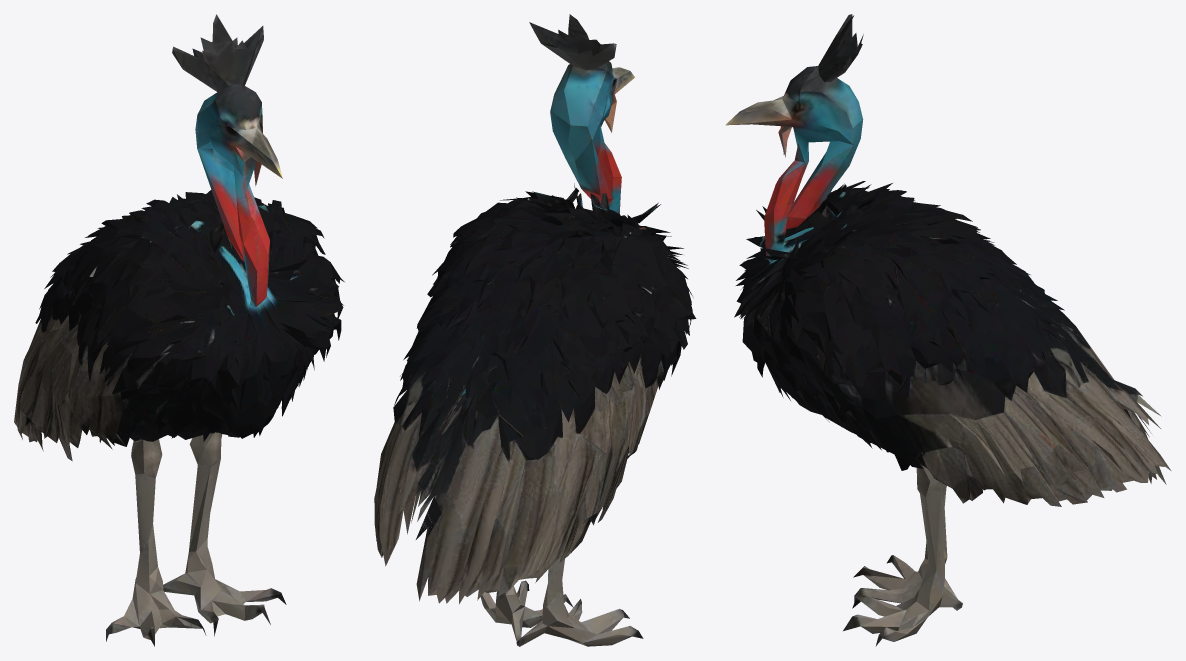
Rendered from fauna_cassowary.glb.
3 views of the same model, side by side, from view 1: azimuth 30°, elevation 25°; view 2: azimuth 150°, elevation 25°; view 3: azimuth 270°, elevation 25° (orthographic). The views are drawn at different scales.
Size of the model in its own units: 0.7979 by 1.9 by 1.29.
Materials: 1 (1 with a texture image).
